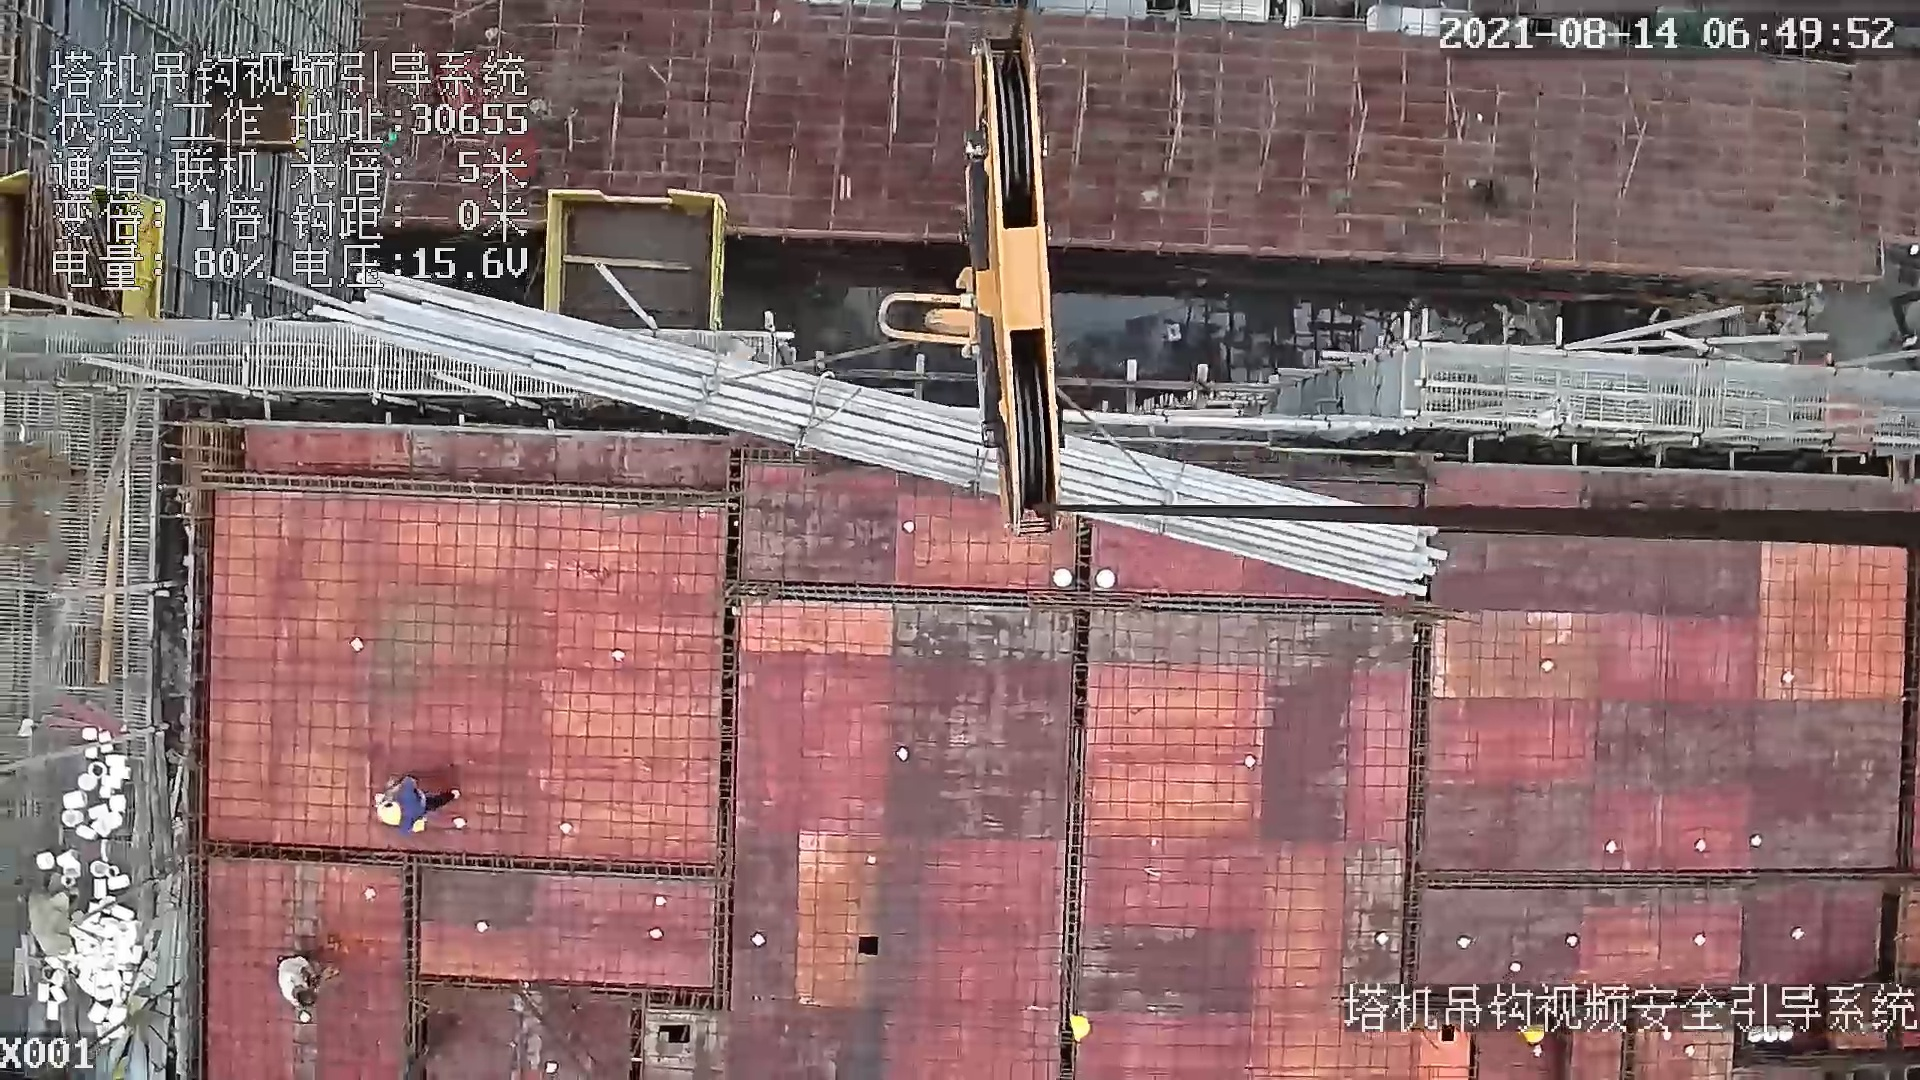helmet: (1064, 1004, 1108, 1056)
hook: (878, 22, 1076, 535)
person: (363, 776, 469, 839), (272, 953, 323, 1022)
